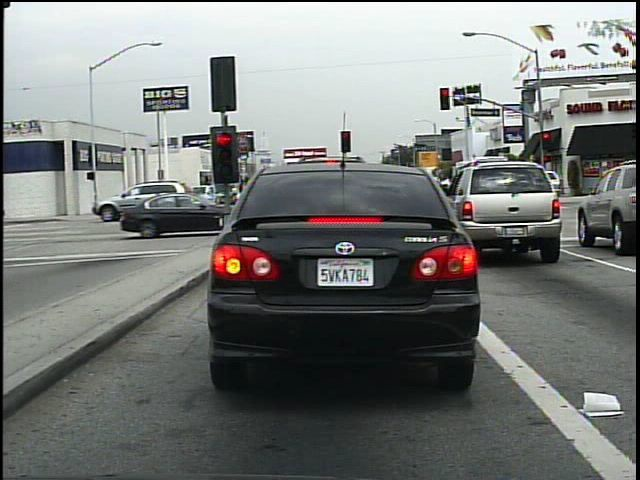person: (199, 177, 222, 216)
